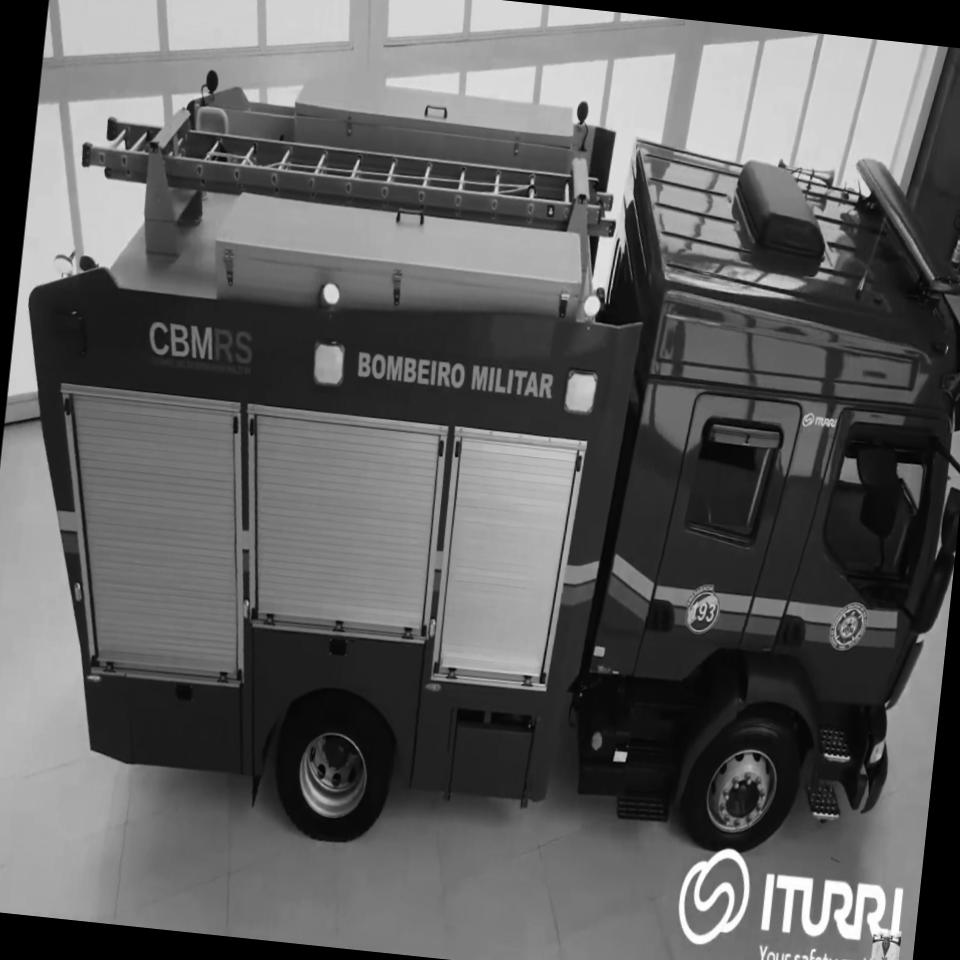viatura: (0, 44, 960, 905)
